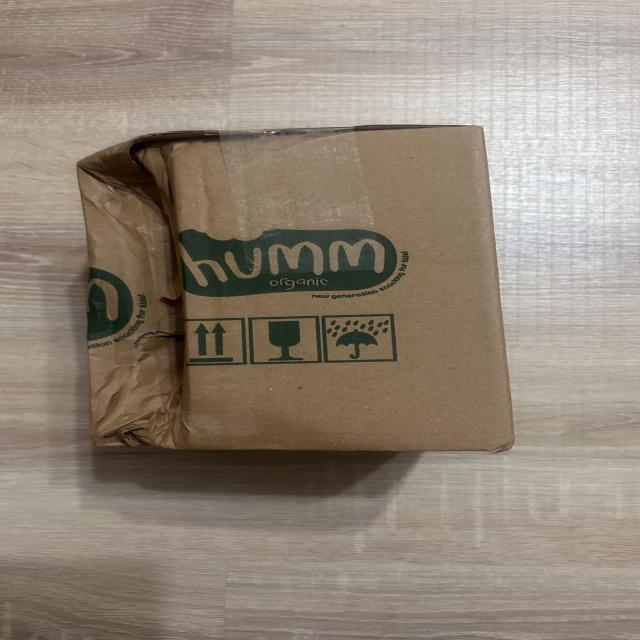damaged: (70, 118, 534, 466), (65, 135, 210, 454)
